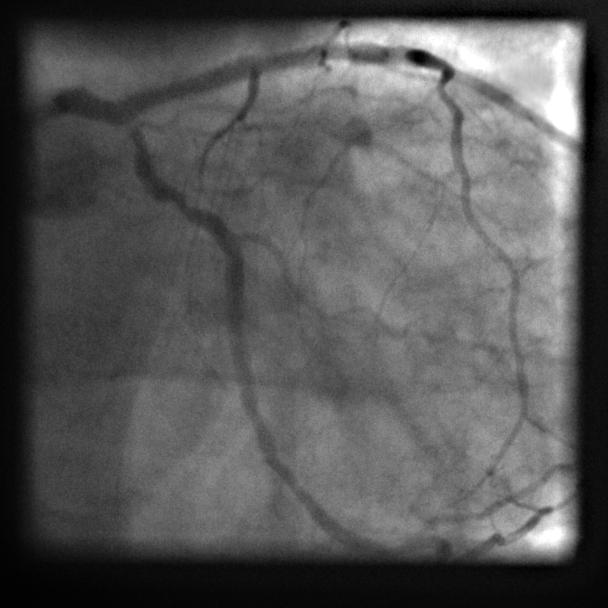Stenosis: (175, 190, 195, 216)
